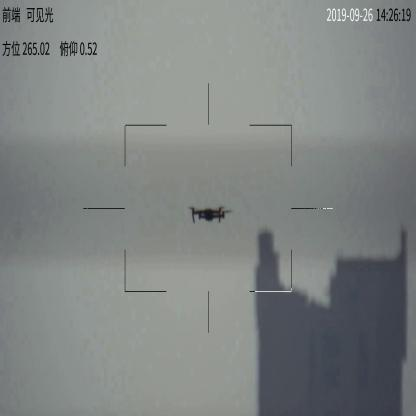uav: (185, 207, 232, 224)
